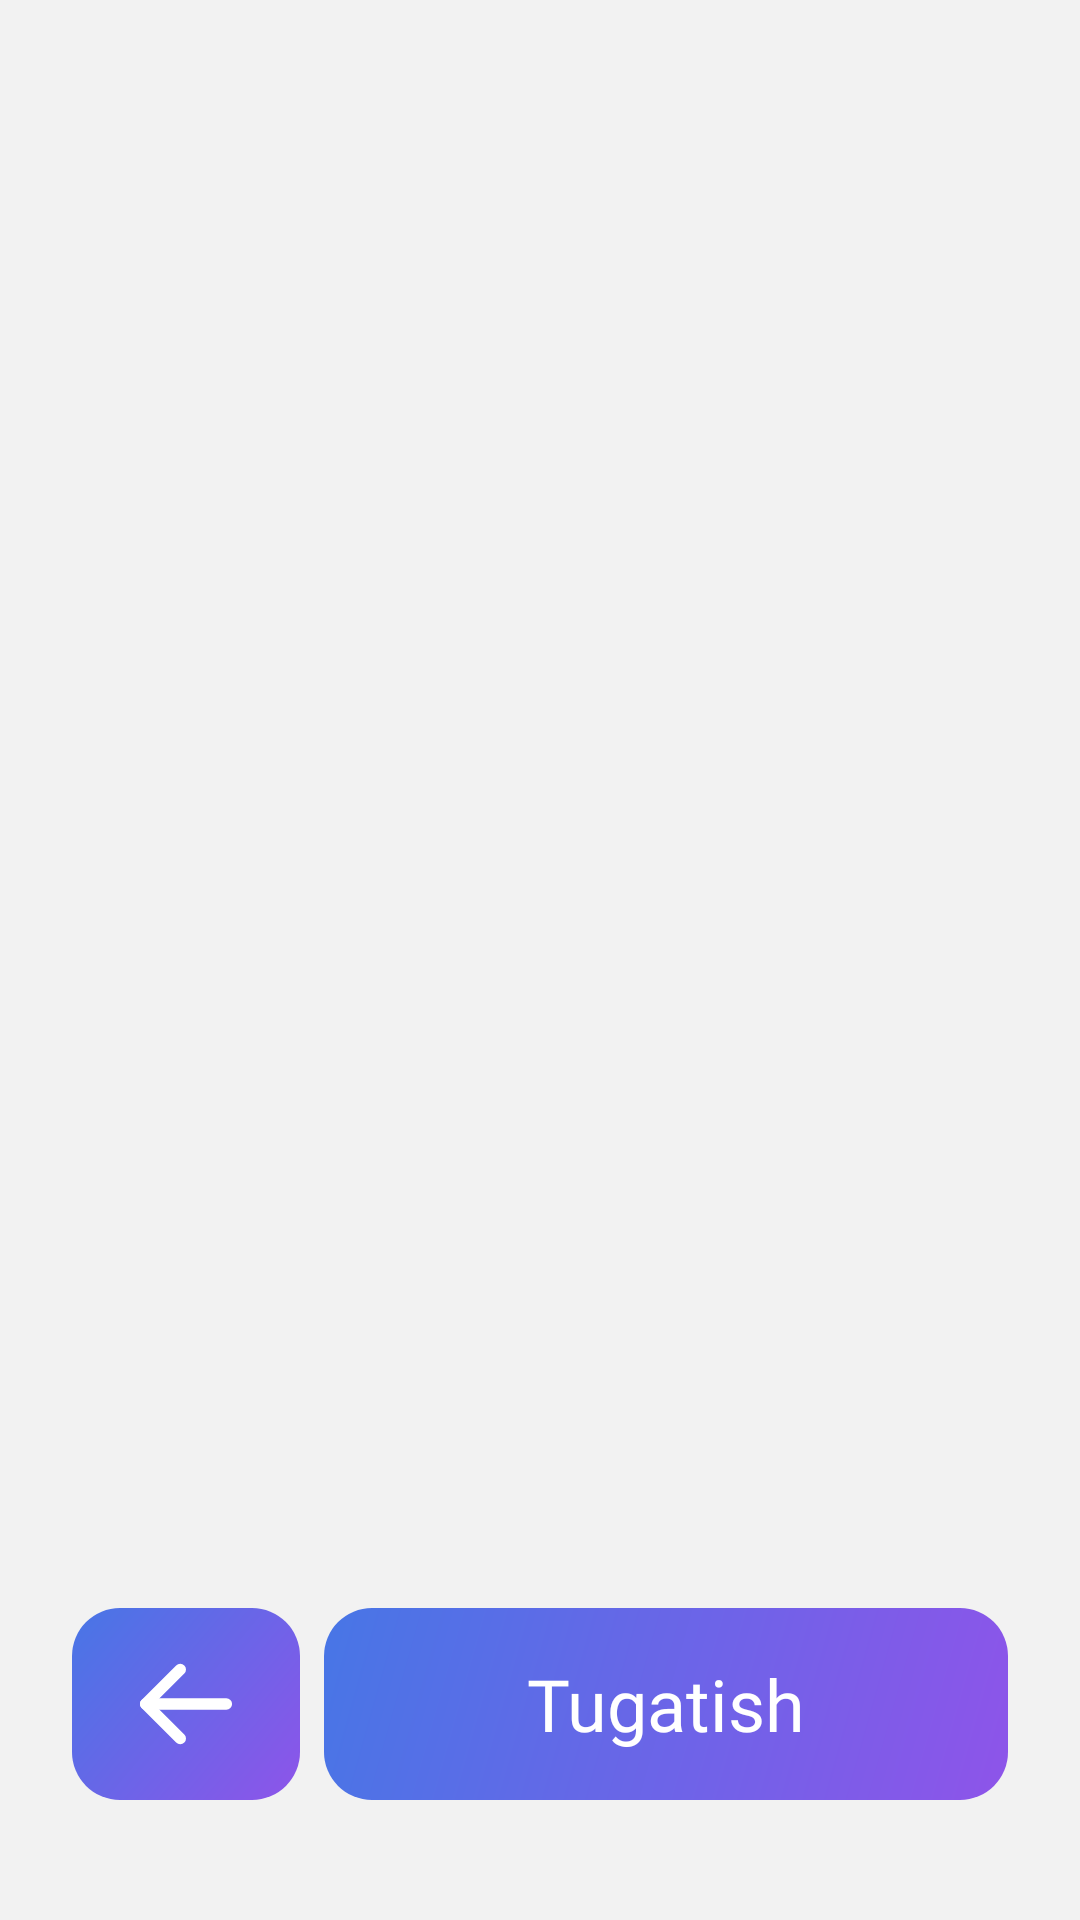

Where to tap for icons on this 1080*1920 app screen, as (x,y):
back: (186,1704)
